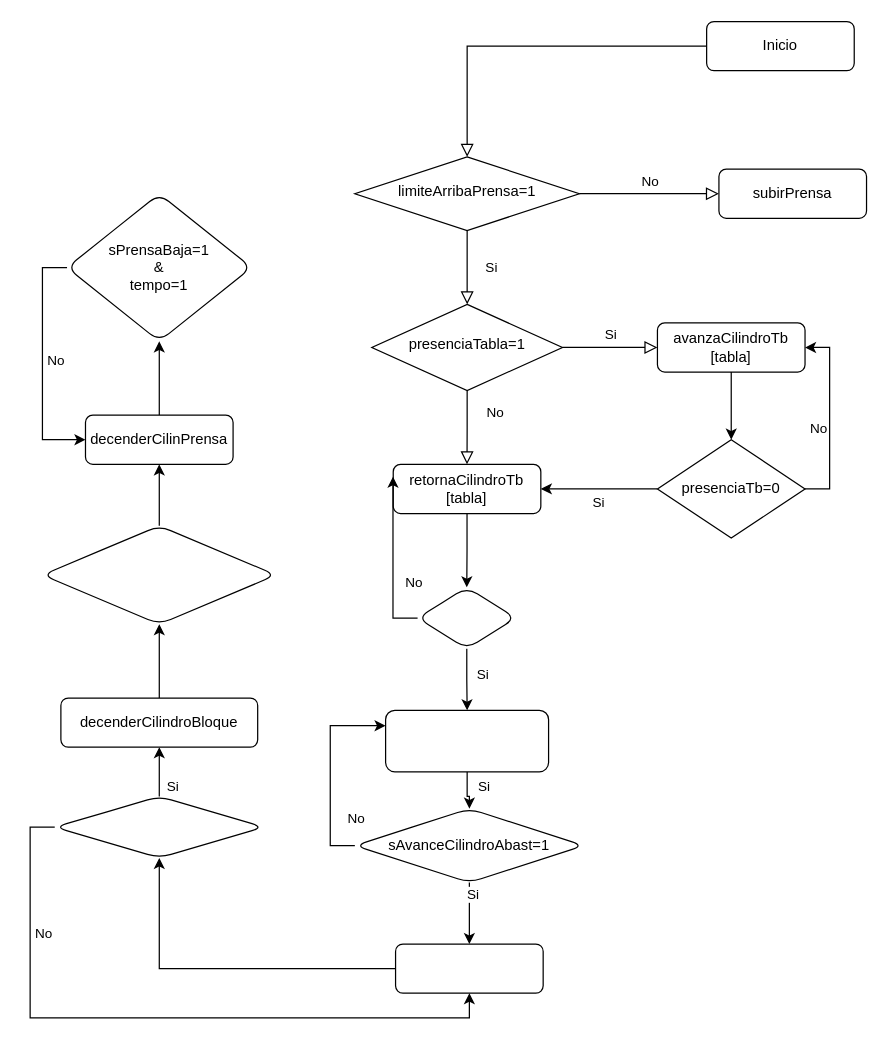
Some shapes in this 888 by 1049 pixel diagram are drawn without their labels. Each missing label, with the centre of its shape:
"avanceCilindroAbast" goes at [466,740].
"retroCilindroAbast" goes at [468,968].
"sDecenderCilindroBloque=1" goes at [158,574].
"sRetroCilinAbas=1" goes at [159,826].
"sRetTb=1" goes at [466,617].
